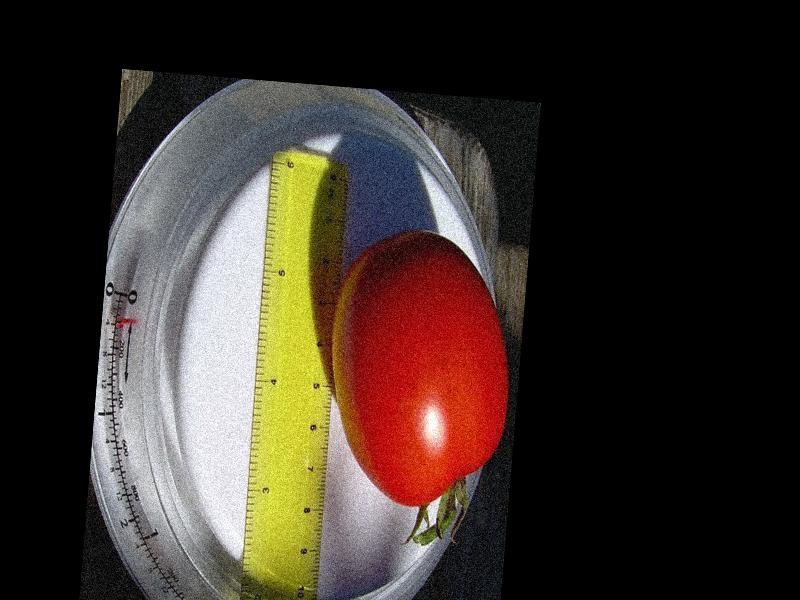Tomato: (314, 225, 521, 514)
